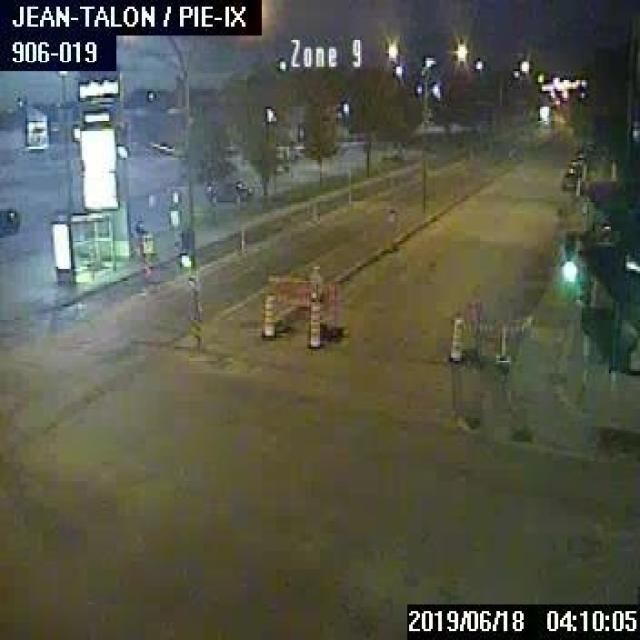construction: (266, 264, 346, 339), (461, 298, 522, 368), (446, 315, 463, 361), (306, 300, 320, 348), (260, 293, 274, 337)
pedestrian: (134, 217, 147, 256)
vehicle: (202, 175, 253, 200), (0, 206, 20, 234), (561, 168, 578, 188), (567, 160, 580, 174), (575, 153, 585, 162)
